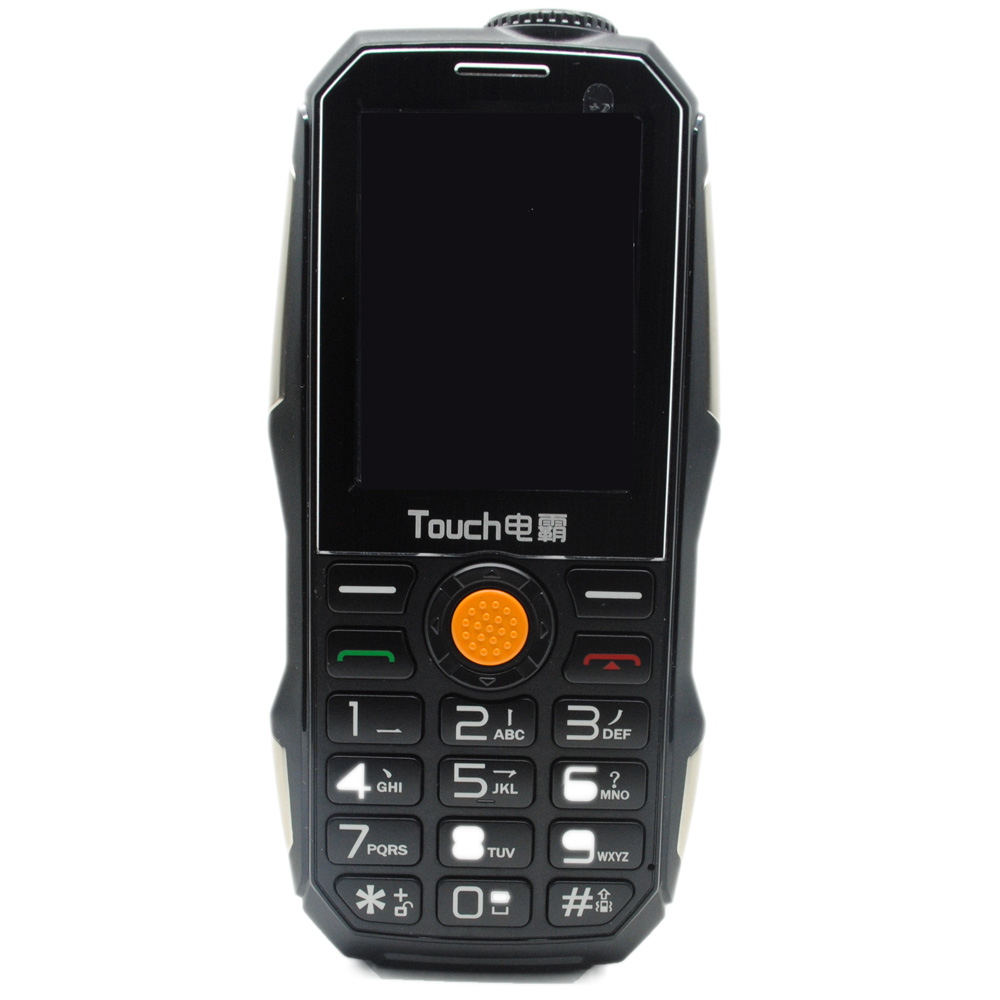Mobile Phone: (204, 8, 817, 987)
